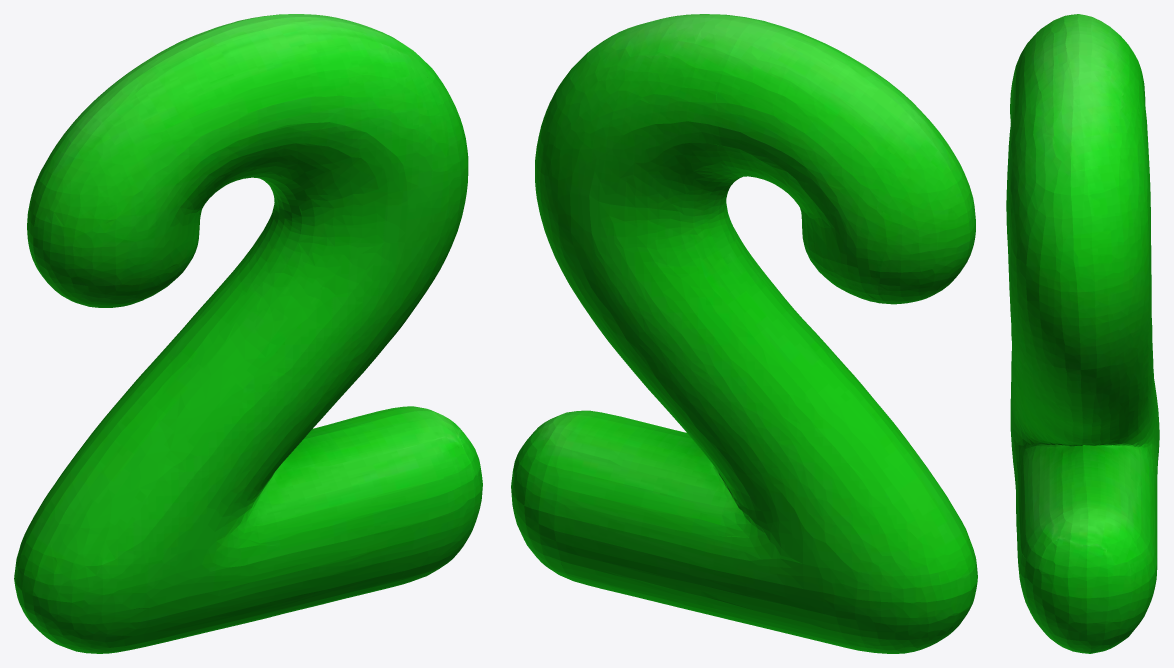
The picture shows the model from 3 angles, left to right: view 1: azimuth 30°, elevation 25°; view 2: azimuth 150°, elevation 25°; view 3: azimuth 270°, elevation 25°; orthographic projection. The views are drawn at different scales.
Parts seen in each view (by area): view 1: geometry_0; view 2: geometry_0; view 3: geometry_0.
Boxes of the visible parts, x1,y1,x2,y2 form: geometry_0: [14, 14, 482, 653]; geometry_0: [511, 14, 977, 653]; geometry_0: [1006, 14, 1159, 653].
Size of the model in its own units: 0.7954 by 0.9973 by 0.2568.
Materials: 1 (1 with a texture image).
